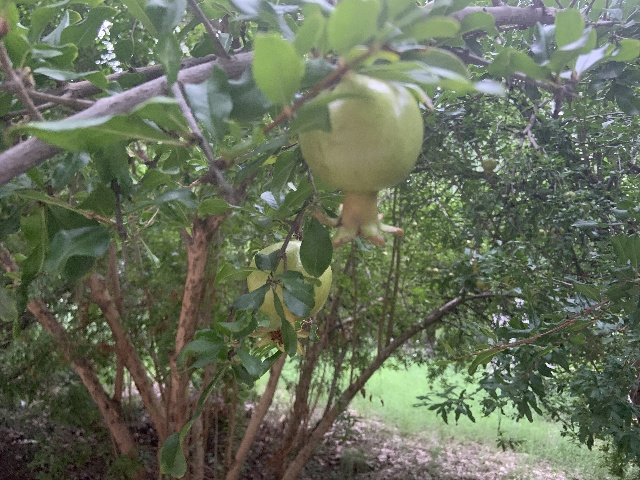mid-growth: (299, 72, 423, 249), (245, 242, 331, 355), (481, 158, 496, 174)
